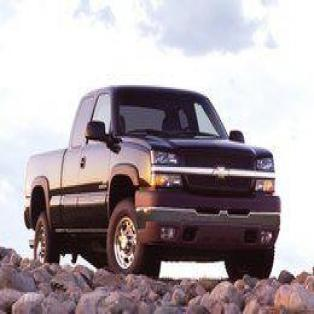Auto: (19, 85, 282, 278)
